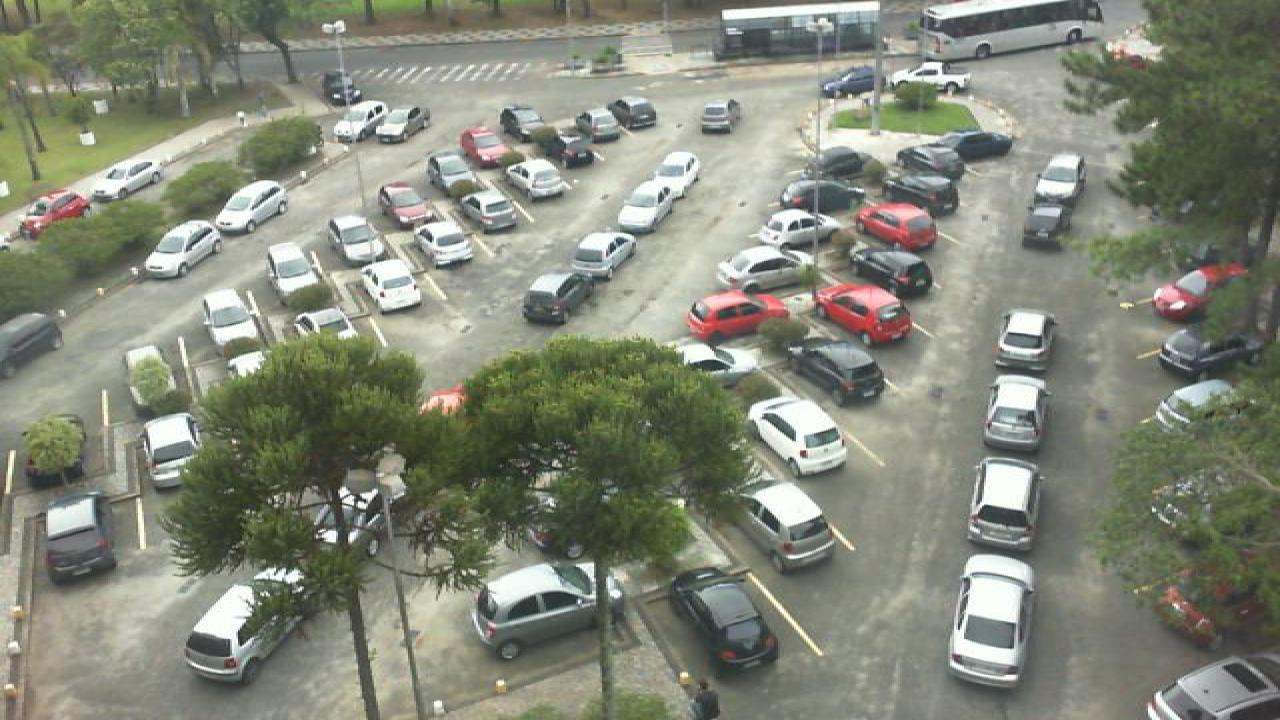Car: (470, 559, 604, 656), (942, 556, 1036, 686), (670, 566, 780, 677), (182, 584, 300, 680), (1146, 655, 1280, 720), (742, 396, 848, 476), (740, 483, 838, 569), (964, 456, 1042, 554), (40, 494, 118, 578), (812, 282, 914, 344), (790, 337, 884, 400), (1152, 260, 1244, 322), (1154, 327, 1260, 379), (980, 373, 1048, 452), (1150, 379, 1240, 437), (686, 288, 786, 340), (142, 410, 204, 492), (140, 219, 222, 278), (714, 244, 812, 293), (848, 249, 934, 297), (854, 202, 938, 251), (212, 179, 288, 233), (994, 308, 1058, 372), (198, 287, 262, 350), (876, 170, 960, 217), (758, 207, 848, 250), (522, 270, 594, 323), (610, 183, 686, 232), (360, 259, 424, 314), (568, 231, 638, 280), (778, 180, 866, 216), (18, 189, 90, 233), (324, 214, 384, 266), (264, 242, 320, 295), (1032, 153, 1090, 204), (92, 160, 164, 200), (640, 151, 702, 197), (888, 61, 972, 94), (416, 220, 476, 266), (1022, 200, 1076, 249), (378, 181, 432, 230), (456, 191, 520, 232), (816, 65, 892, 99), (426, 152, 482, 198), (332, 99, 390, 143), (506, 158, 568, 199), (936, 130, 1014, 162), (458, 124, 514, 168), (372, 104, 430, 144), (898, 146, 964, 181), (546, 130, 600, 166), (498, 104, 544, 142), (606, 96, 656, 130), (574, 108, 618, 143), (324, 69, 362, 107), (700, 99, 740, 133)
